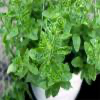Tomato leaf mosaic virus: (34, 45, 51, 61), (54, 46, 73, 56), (26, 62, 39, 76), (86, 55, 98, 65), (55, 75, 64, 82)
